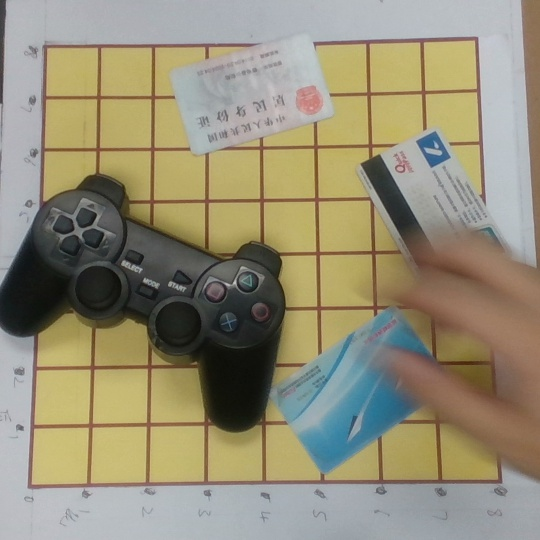card: (268, 303, 444, 473), (358, 126, 513, 287), (170, 30, 336, 150)
remote: (1, 171, 286, 436)
